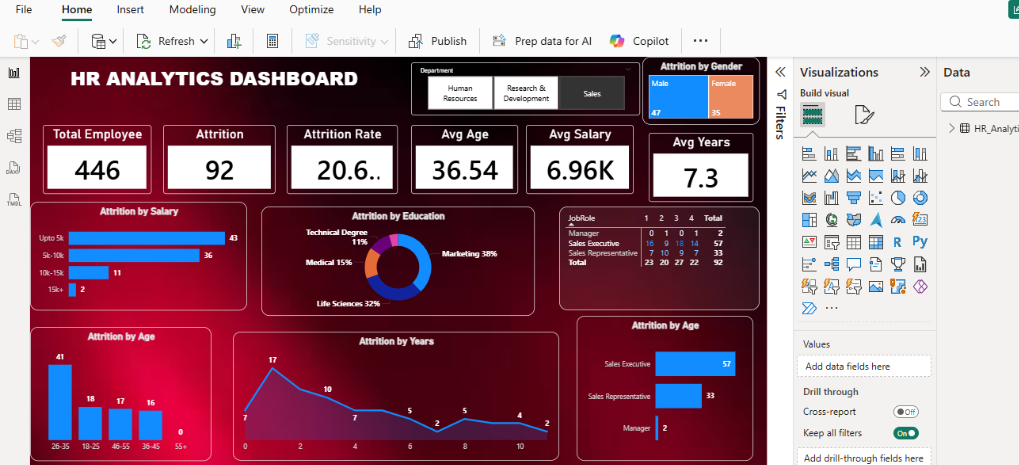

The dashboard page shown, as its layout file describes it:
{"tool":"powerbi","page":{"name":"Page 1","canvas":[1280,720],"ordinal":0},"visuals":[{"type":"cardVisual","title":"Total Employee","fields":{"Data":["Count(HR_Analytics.EmpID)"]},"box":[22,118.4,188.6,119.7],"z":0},{"type":"cardVisual","title":"Attrition","fields":{"Data":["Sum(HR_Analytics.AttritionCount)"]},"box":[231.2,118.4,195.4,119.7],"z":1000},{"type":"cardVisual","title":"Attrition Rate","fields":{"Data":["HR_Analytics.AttritionRate"]},"box":[445.9,118.4,192.7,119.7],"z":2000},{"type":"cardVisual","title":"Avg Age","fields":{"Data":["Avg(HR_Analytics.Age)"]},"box":[662,118.4,185.8,119.7],"z":3000},{"type":"cardVisual","title":"Avg Salary","fields":{"Data":["Avg(HR_Analytics.MonthlyIncome)"]},"box":[861.6,118.4,187.2,119.7],"z":4000},{"type":"cardVisual","title":"Avg Years","fields":{"Data":["Avg(HR_Analytics.YearsAtCompany)"]},"box":[1074.9,132.1,181.7,119.7],"z":5000},{"type":"donutChart","title":"Attrition by Education","fields":{"Category":["HR_Analytics.EducationField"],"Y":["Sum(HR_Analytics.AttritionCount)"]},"box":[401.9,260.1,474.8,189.9],"z":6000},{"type":"columnChart","title":"Attrition by Age","fields":{"Category":["HR_Analytics.AgeGroup"],"Y":["Sum(HR_Analytics.AttritionCount)"]},"box":[0,469.3,315.2,232.6],"z":7000},{"type":"pivotTable","fields":{"Rows":["HR_Analytics.JobRole"],"Columns":["HR_Analytics.JobSatisfaction"],"Values":["Sum(HR_Analytics.AttritionCount)"]},"box":[919.4,260.1,348.2,180.3],"z":8000},{"type":"barChart","title":"Attrition by Salary","fields":{"Category":["HR_Analytics.SalarySlab"],"Y":["Sum(HR_Analytics.AttritionCount)"]},"box":[0,251.9,377.1,188.6],"z":9000},{"type":"barChart","title":"Attrition by Age","fields":{"Category":["HR_Analytics.JobRole"],"Y":["Sum(HR_Analytics.AttritionCount)"]},"box":[949.7,450.1,306.9,251.9],"z":10000},{"type":"areaChart","title":"Attrition by Years","fields":{"Category":["HR_Analytics.YearsAtCompany"],"Y":["Sum(HR_Analytics.AttritionCount)"]},"box":[352.3,477.6,567.1,224.3],"z":11000},{"type":"treemap","title":"Attrition by Gender","fields":{"Group":["HR_Analytics.Gender"],"Values":["Sum(HR_Analytics.AttritionCount)"]},"box":[1063.9,0,203.7,118.4],"z":12000},{"type":"slicer","fields":{"Values":["HR_Analytics.Department"]},"box":[662,9.6,397.8,92.2],"z":13000},{"type":"textbox","box":[0,9.6,640,92.2],"z":14000}]}

Visuals, with their boxes on the page's 1280x720 design canvas (x1, y1, x2, y2). These are canvas units, not pixel positions in the 1019x465 screenshot, which may show the page scaled, cropped or inside an application window:
"Total Employee" cardVisual: rect(22, 118, 211, 238)
"Attrition" cardVisual: rect(231, 118, 427, 238)
"Attrition Rate" cardVisual: rect(446, 118, 639, 238)
"Avg Age" cardVisual: rect(662, 118, 848, 238)
"Avg Salary" cardVisual: rect(862, 118, 1049, 238)
"Avg Years" cardVisual: rect(1075, 132, 1257, 252)
"Attrition by Education" donutChart: rect(402, 260, 877, 450)
"Attrition by Age" columnChart: rect(0, 469, 315, 702)
pivotTable - HR_Analytics.JobRole x HR_Analytics.JobSatisfaction: rect(919, 260, 1268, 440)
"Attrition by Salary" barChart: rect(0, 252, 377, 440)
"Attrition by Age" barChart: rect(950, 450, 1257, 702)
"Attrition by Years" areaChart: rect(352, 478, 919, 702)
"Attrition by Gender" treemap: rect(1064, 0, 1268, 118)
slicer - HR_Analytics.Department: rect(662, 10, 1060, 102)
textbox: rect(0, 10, 640, 102)
